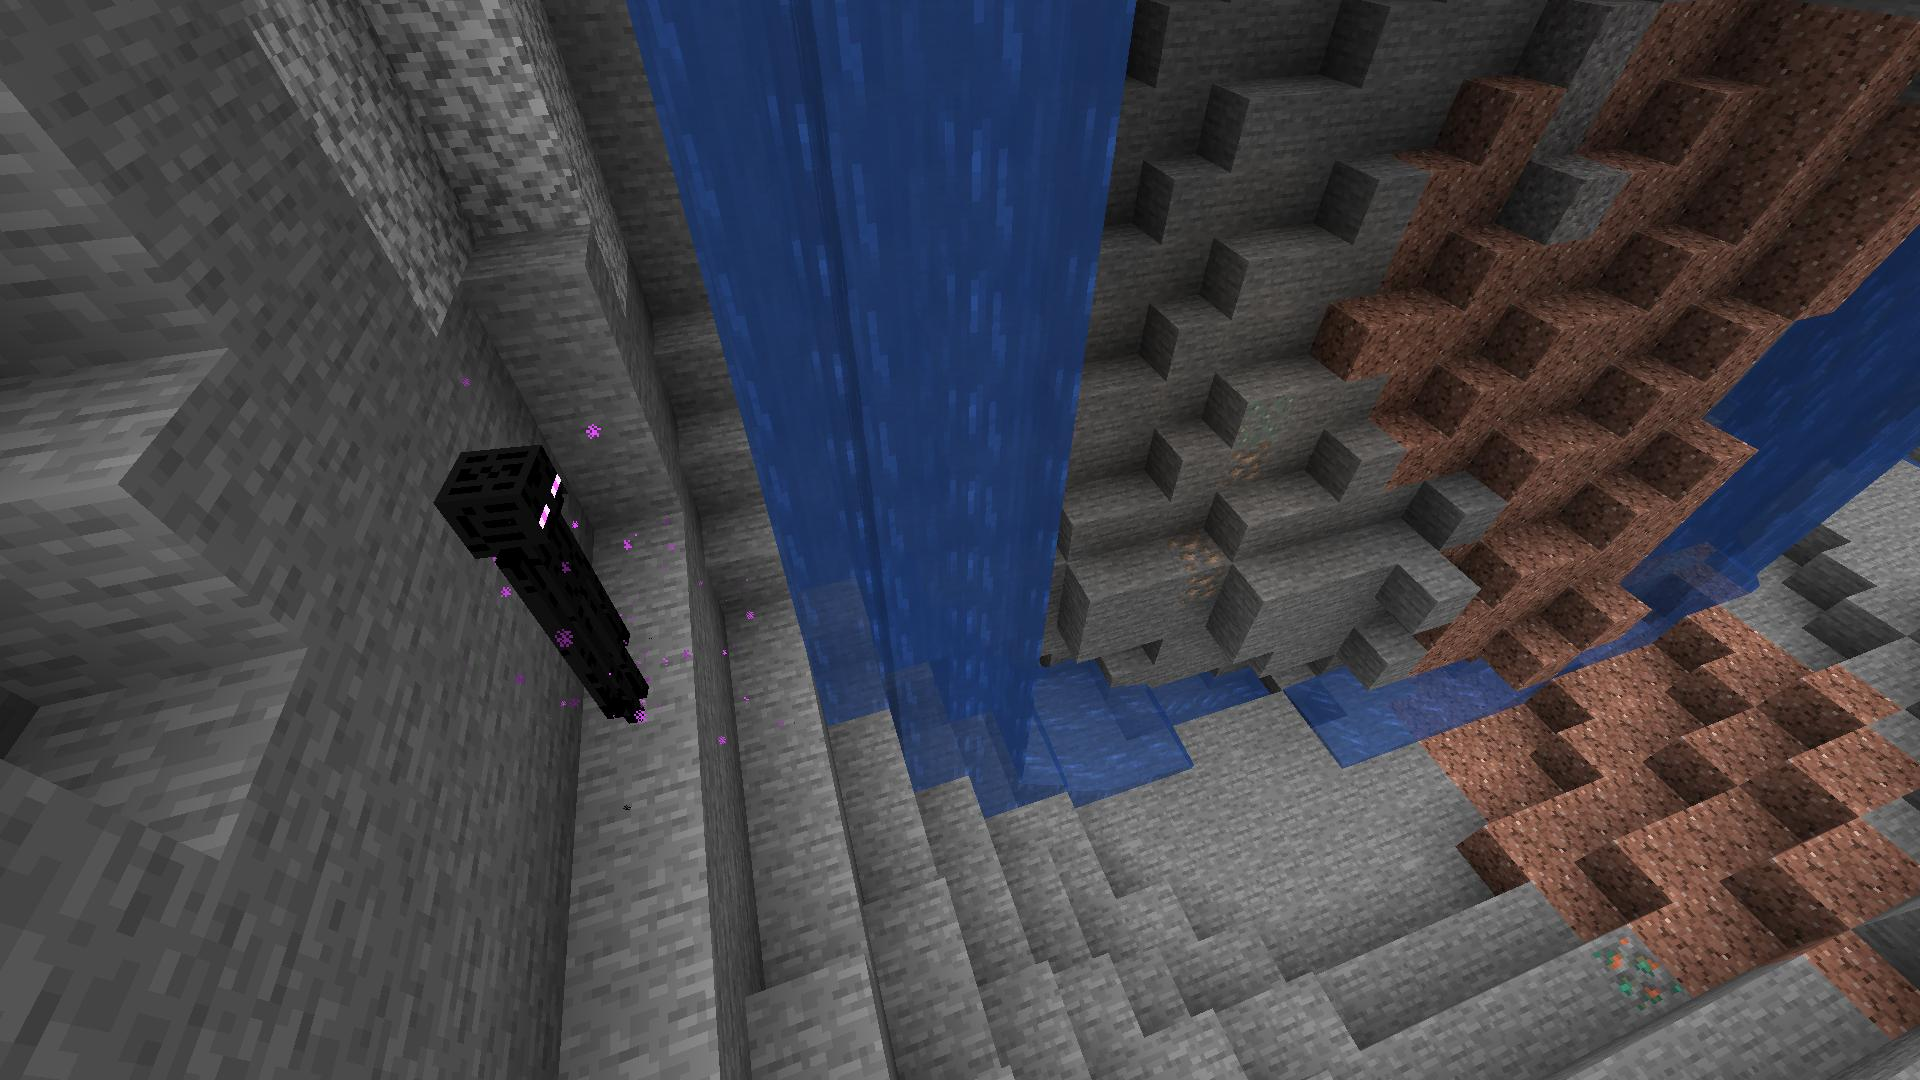enderman: (434, 429, 657, 729)
